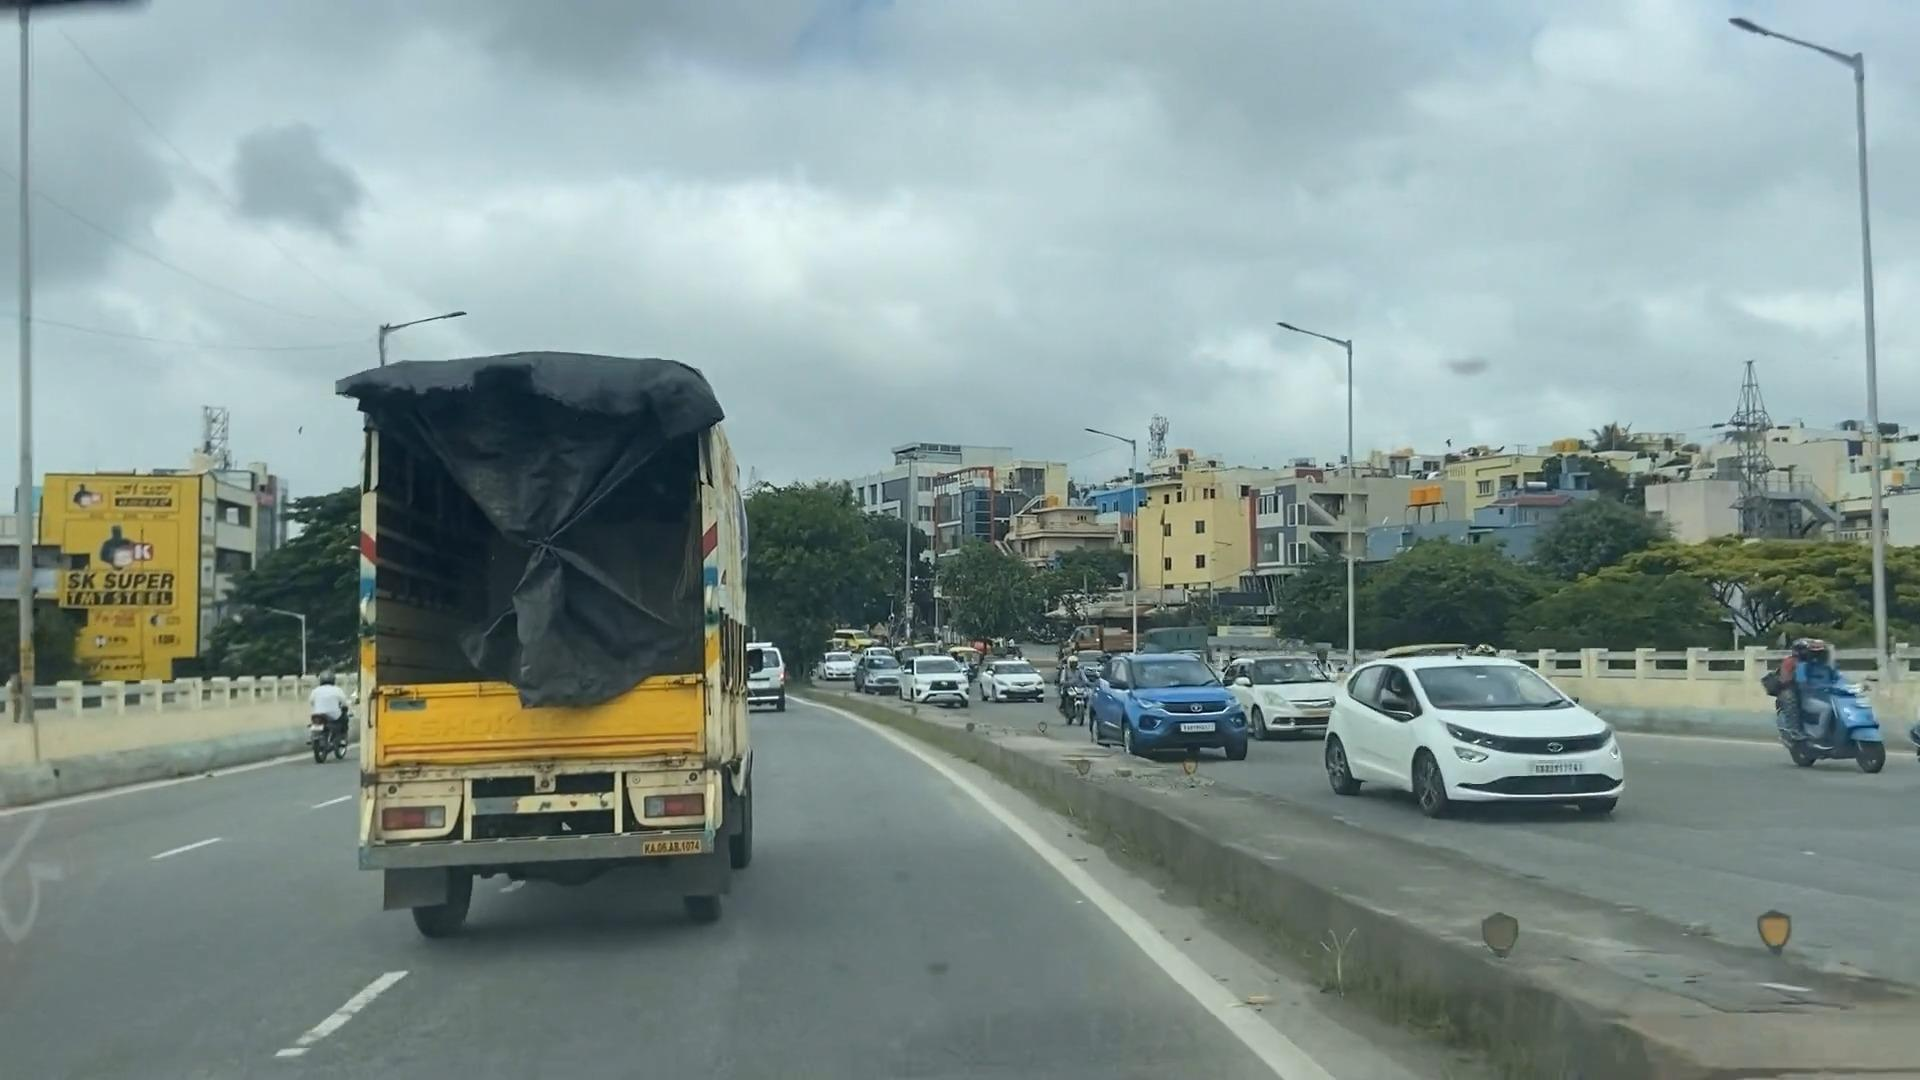HMV: (323, 319, 754, 952)
